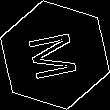M_E: (25, 27, 85, 83)
